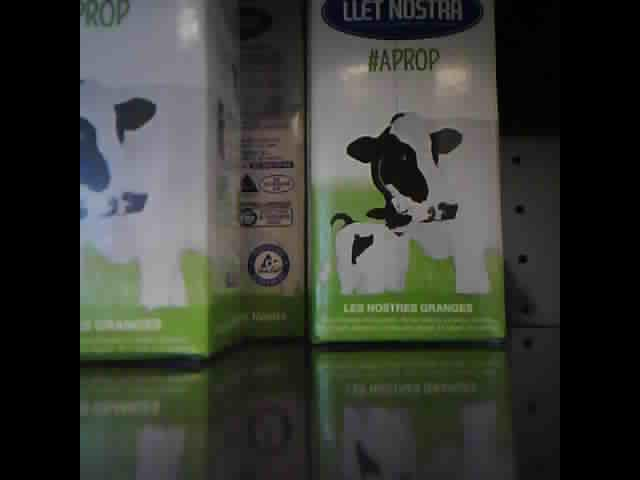leche: (310, 3, 504, 343), (83, 3, 239, 362), (238, 6, 304, 342)
